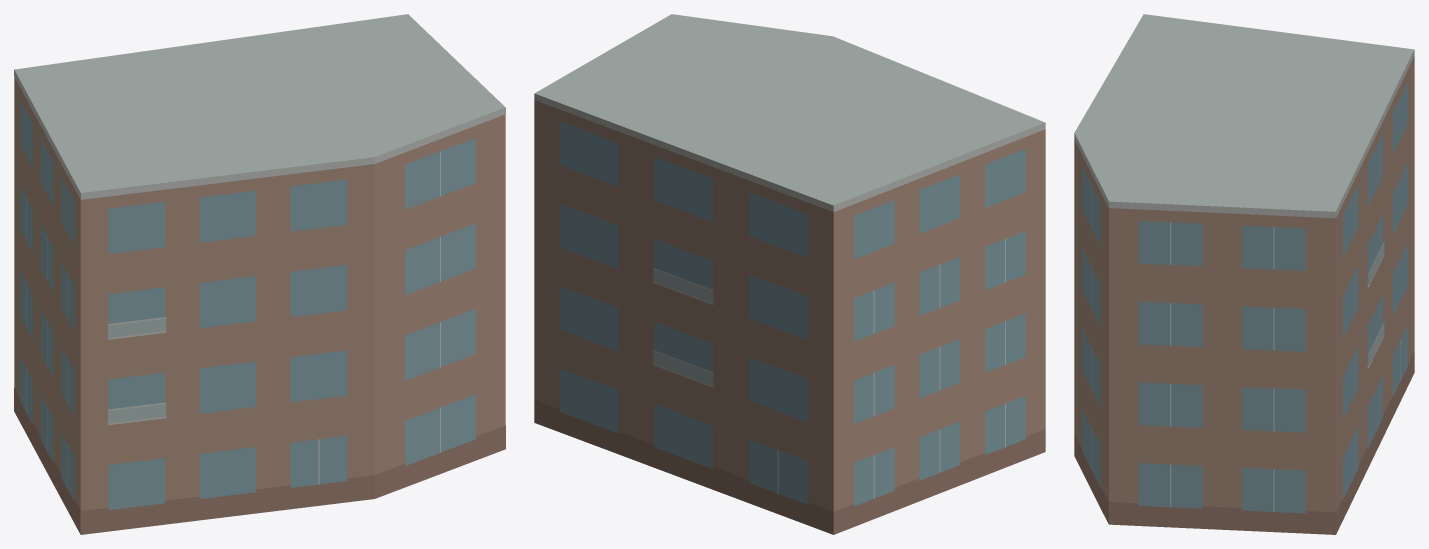
Rendered from residential-83a034ec-2fc2-409a-82ed-5495a61b0c9e.glb.
3 views of the same model, side by side, from view 1: azimuth 30°, elevation 25°; view 2: azimuth 150°, elevation 25°; view 3: azimuth 270°, elevation 25° (orthographic). The views are drawn at different scales.
Visible parts, largest first — view 1: residential-83a034ec-2fc2-409a-82ed-5495a61b0c9e.tmp; view 2: residential-83a034ec-2fc2-409a-82ed-5495a61b0c9e.tmp; view 3: residential-83a034ec-2fc2-409a-82ed-5495a61b0c9e.tmp.
Boxes of the visible parts, bbox=[...] form: residential-83a034ec-2fc2-409a-82ed-5495a61b0c9e.tmp: bbox=[14, 14, 505, 534]; residential-83a034ec-2fc2-409a-82ed-5495a61b0c9e.tmp: bbox=[534, 14, 1045, 534]; residential-83a034ec-2fc2-409a-82ed-5495a61b0c9e.tmp: bbox=[1074, 14, 1414, 534].
Bounding box in the file's own units: 16.04 × 12.2 × 11.66.
